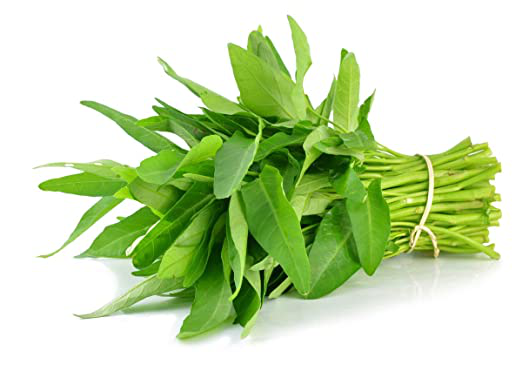Kangkung: (43, 30, 509, 334)
